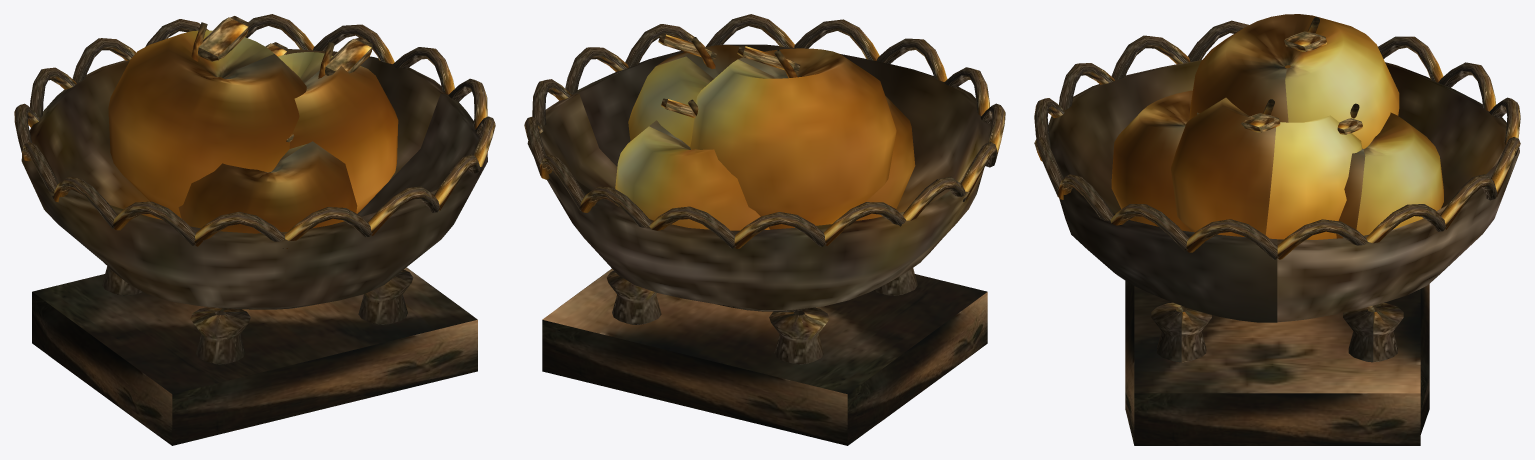
Rendered from apples-of-gold.glb.
The picture shows the model from 3 angles, left to right: view 1: azimuth 30°, elevation 25°; view 2: azimuth 150°, elevation 25°; view 3: azimuth 270°, elevation 25°; orthographic projection. The views are drawn at different scales.
Parts seen in each view (by area): view 1: HeroRelicMonument; view 2: HeroRelicMonument; view 3: HeroRelicMonument.
Boxes of the visible parts, x1,y1,x2,y2 form: HeroRelicMonument: (14, 14, 495, 445); HeroRelicMonument: (524, 14, 1005, 445); HeroRelicMonument: (1034, 14, 1520, 445).
Size of the model in its own units: 1.73 by 1.32 by 1.73.
Materials: 1 (1 with a texture image).
